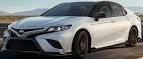Cars: (4, 2, 143, 58)
